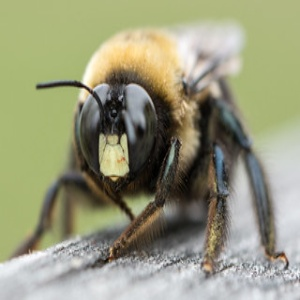bee: (31, 17, 292, 281)
